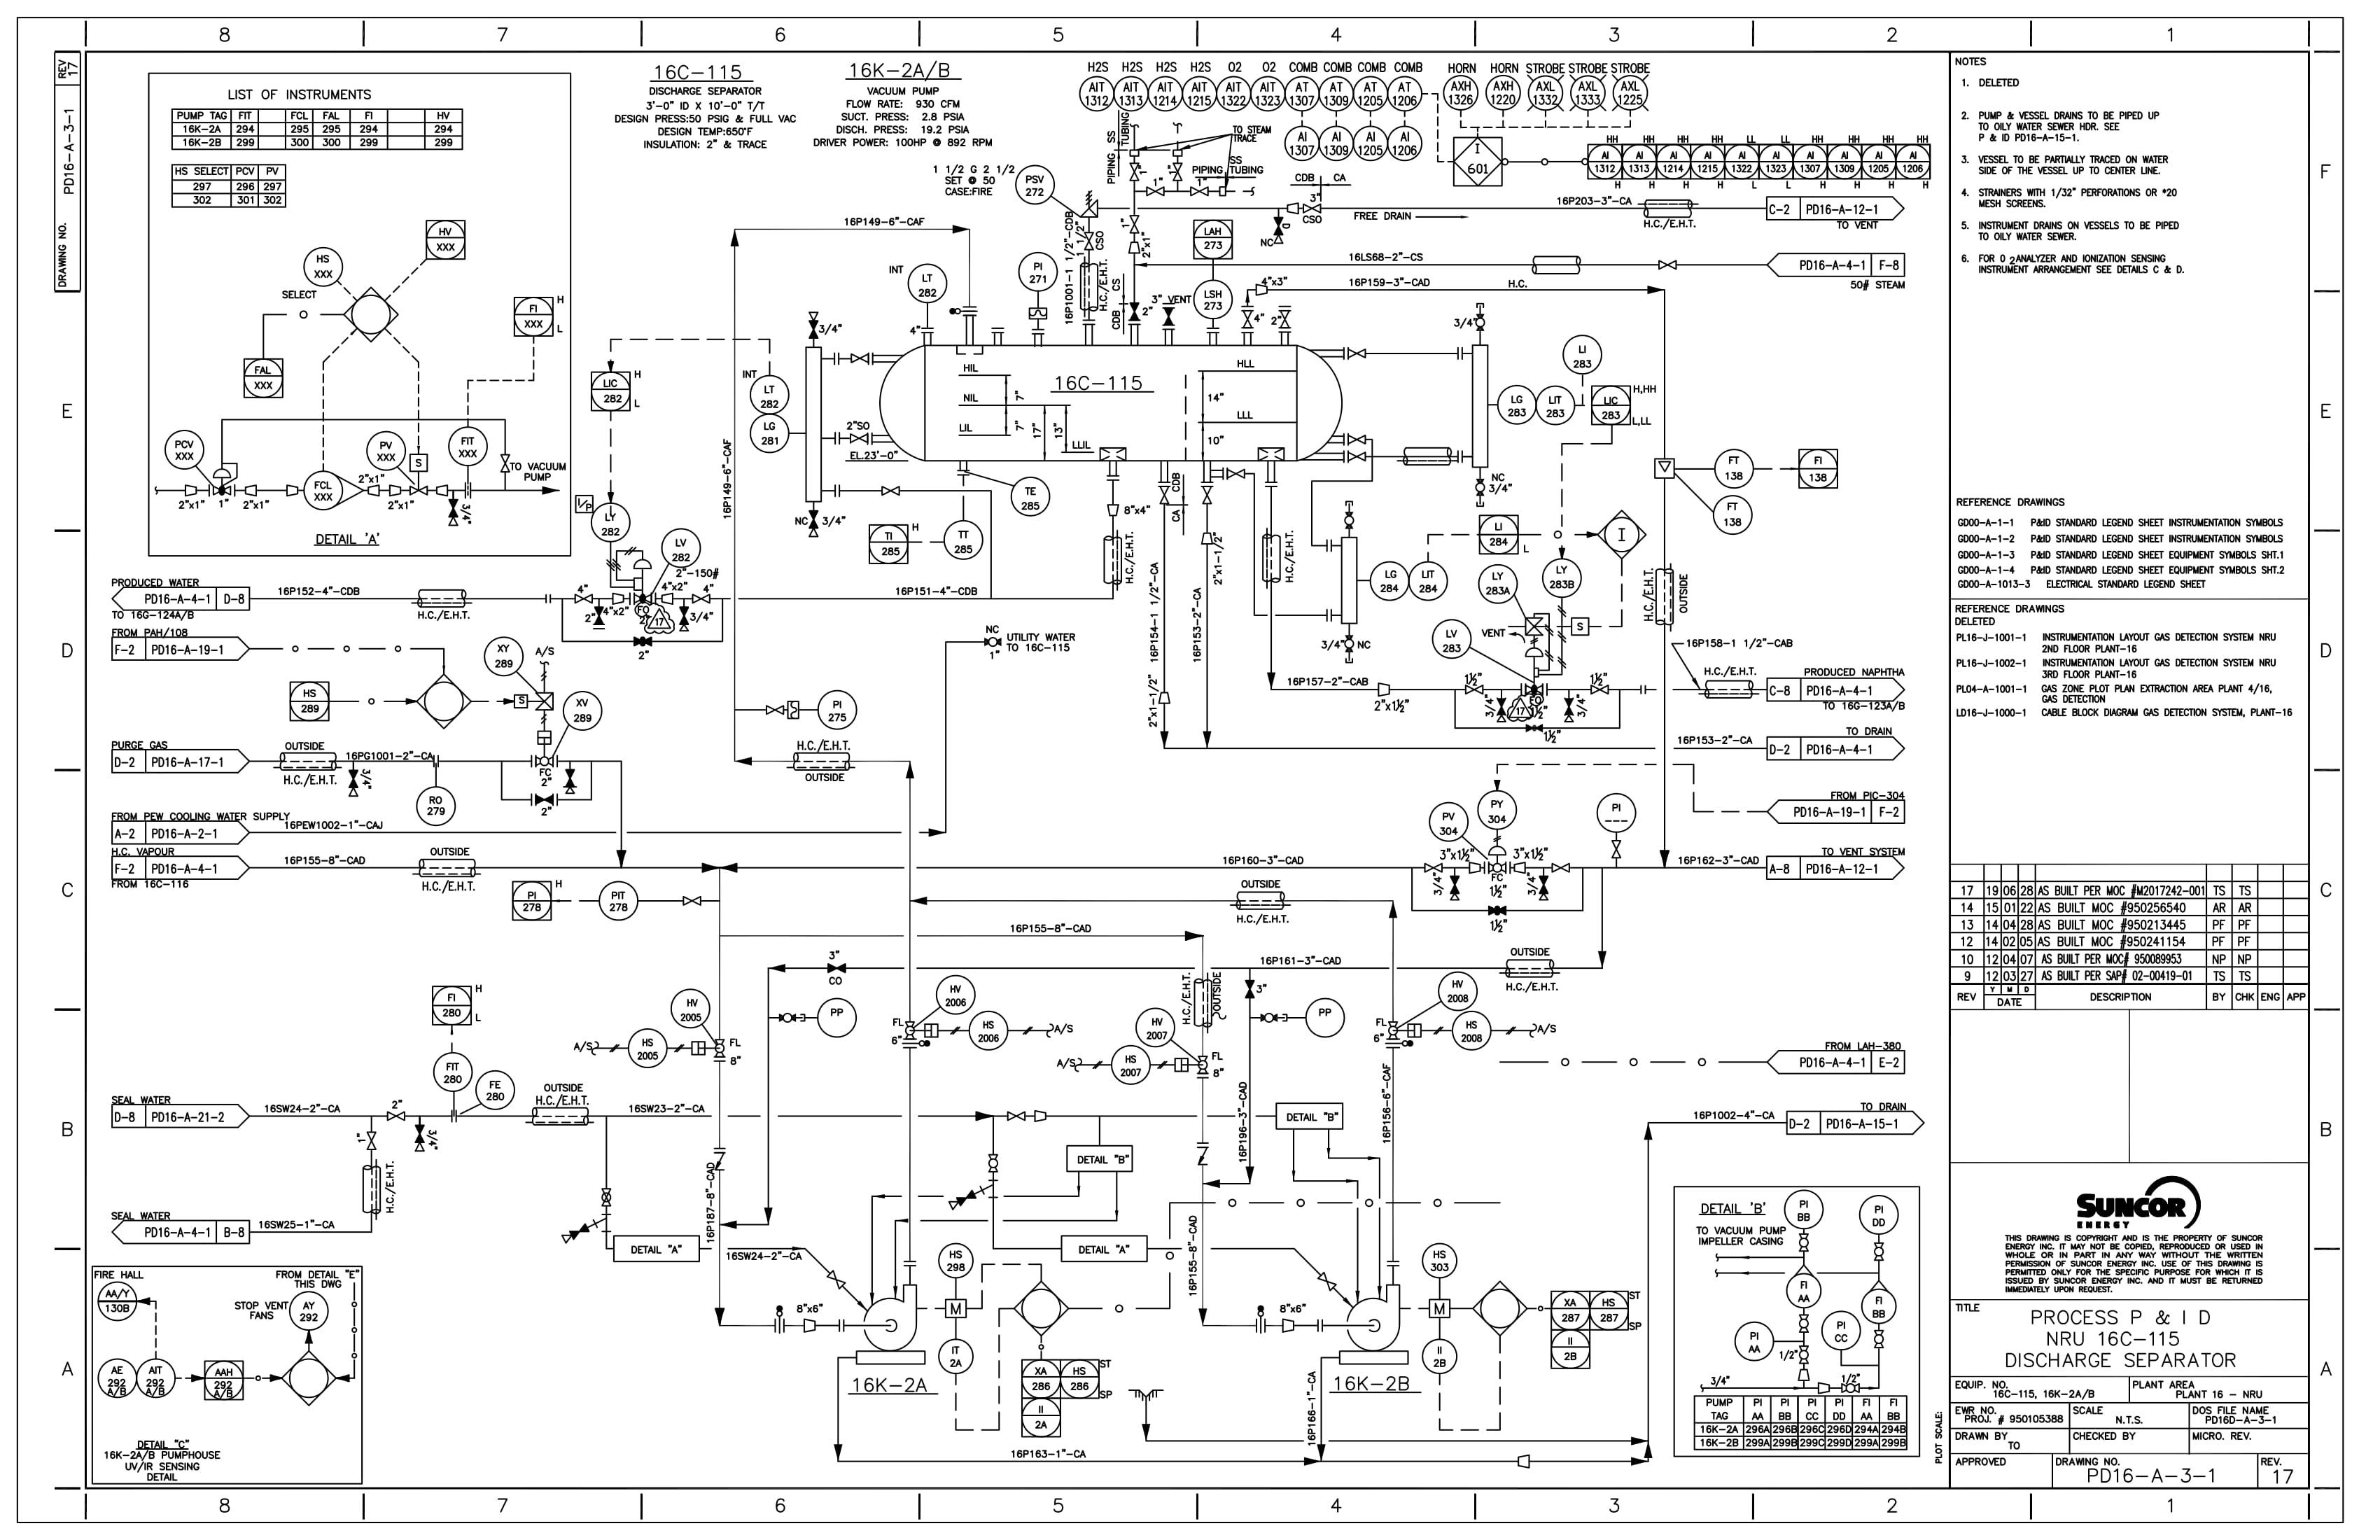DrainValve: (807, 506, 822, 541), (444, 496, 461, 527), (411, 1122, 427, 1155), (564, 767, 578, 798), (1272, 212, 1284, 246), (1561, 697, 1575, 727), (1494, 697, 1507, 727), (1539, 876, 1553, 904), (1448, 874, 1462, 902), (678, 604, 690, 635)
GateValve: (1225, 465, 1249, 484), (1344, 347, 1374, 362), (382, 1108, 409, 1124), (1004, 1110, 1030, 1126), (1655, 258, 1683, 272), (879, 484, 904, 499), (680, 895, 706, 909), (1240, 309, 1256, 331), (1128, 160, 1141, 184), (845, 432, 871, 444), (1278, 309, 1292, 330), (1200, 484, 1213, 506), (1129, 213, 1141, 236), (1587, 683, 1612, 694), (1303, 203, 1325, 213), (1159, 484, 1169, 505)
